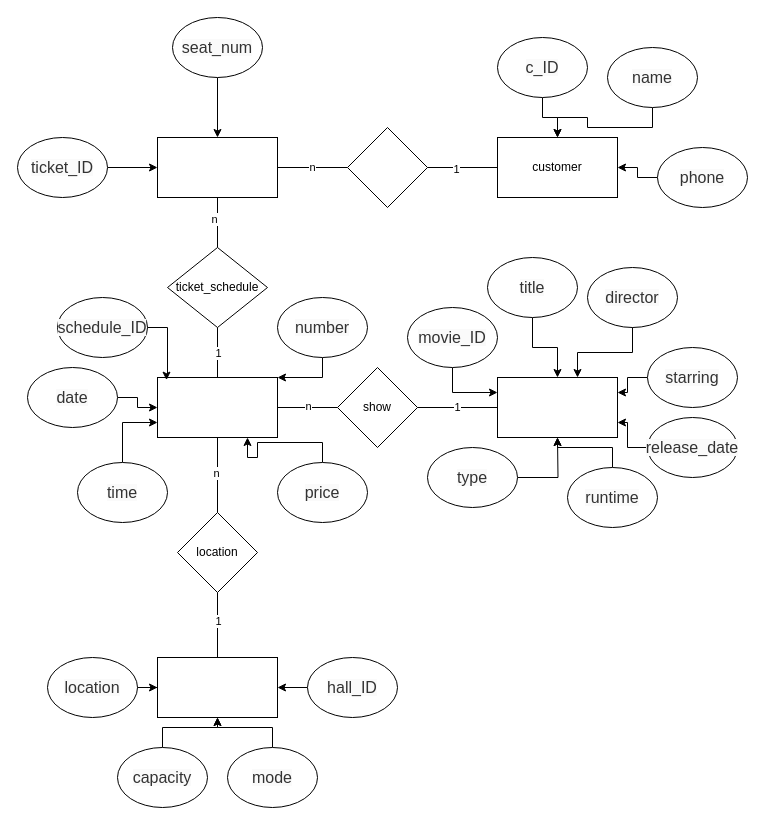
The diagram is 765 pixels wide and 825 high, and some of its shapes have lost their labels. Each missing label, with the box of its shape:
buy_ticket: (346, 126, 428, 208)
hall: (156, 656, 278, 718)
movie: (496, 376, 618, 438)
schedule: (156, 376, 278, 438)
ticket: (156, 136, 278, 198)
